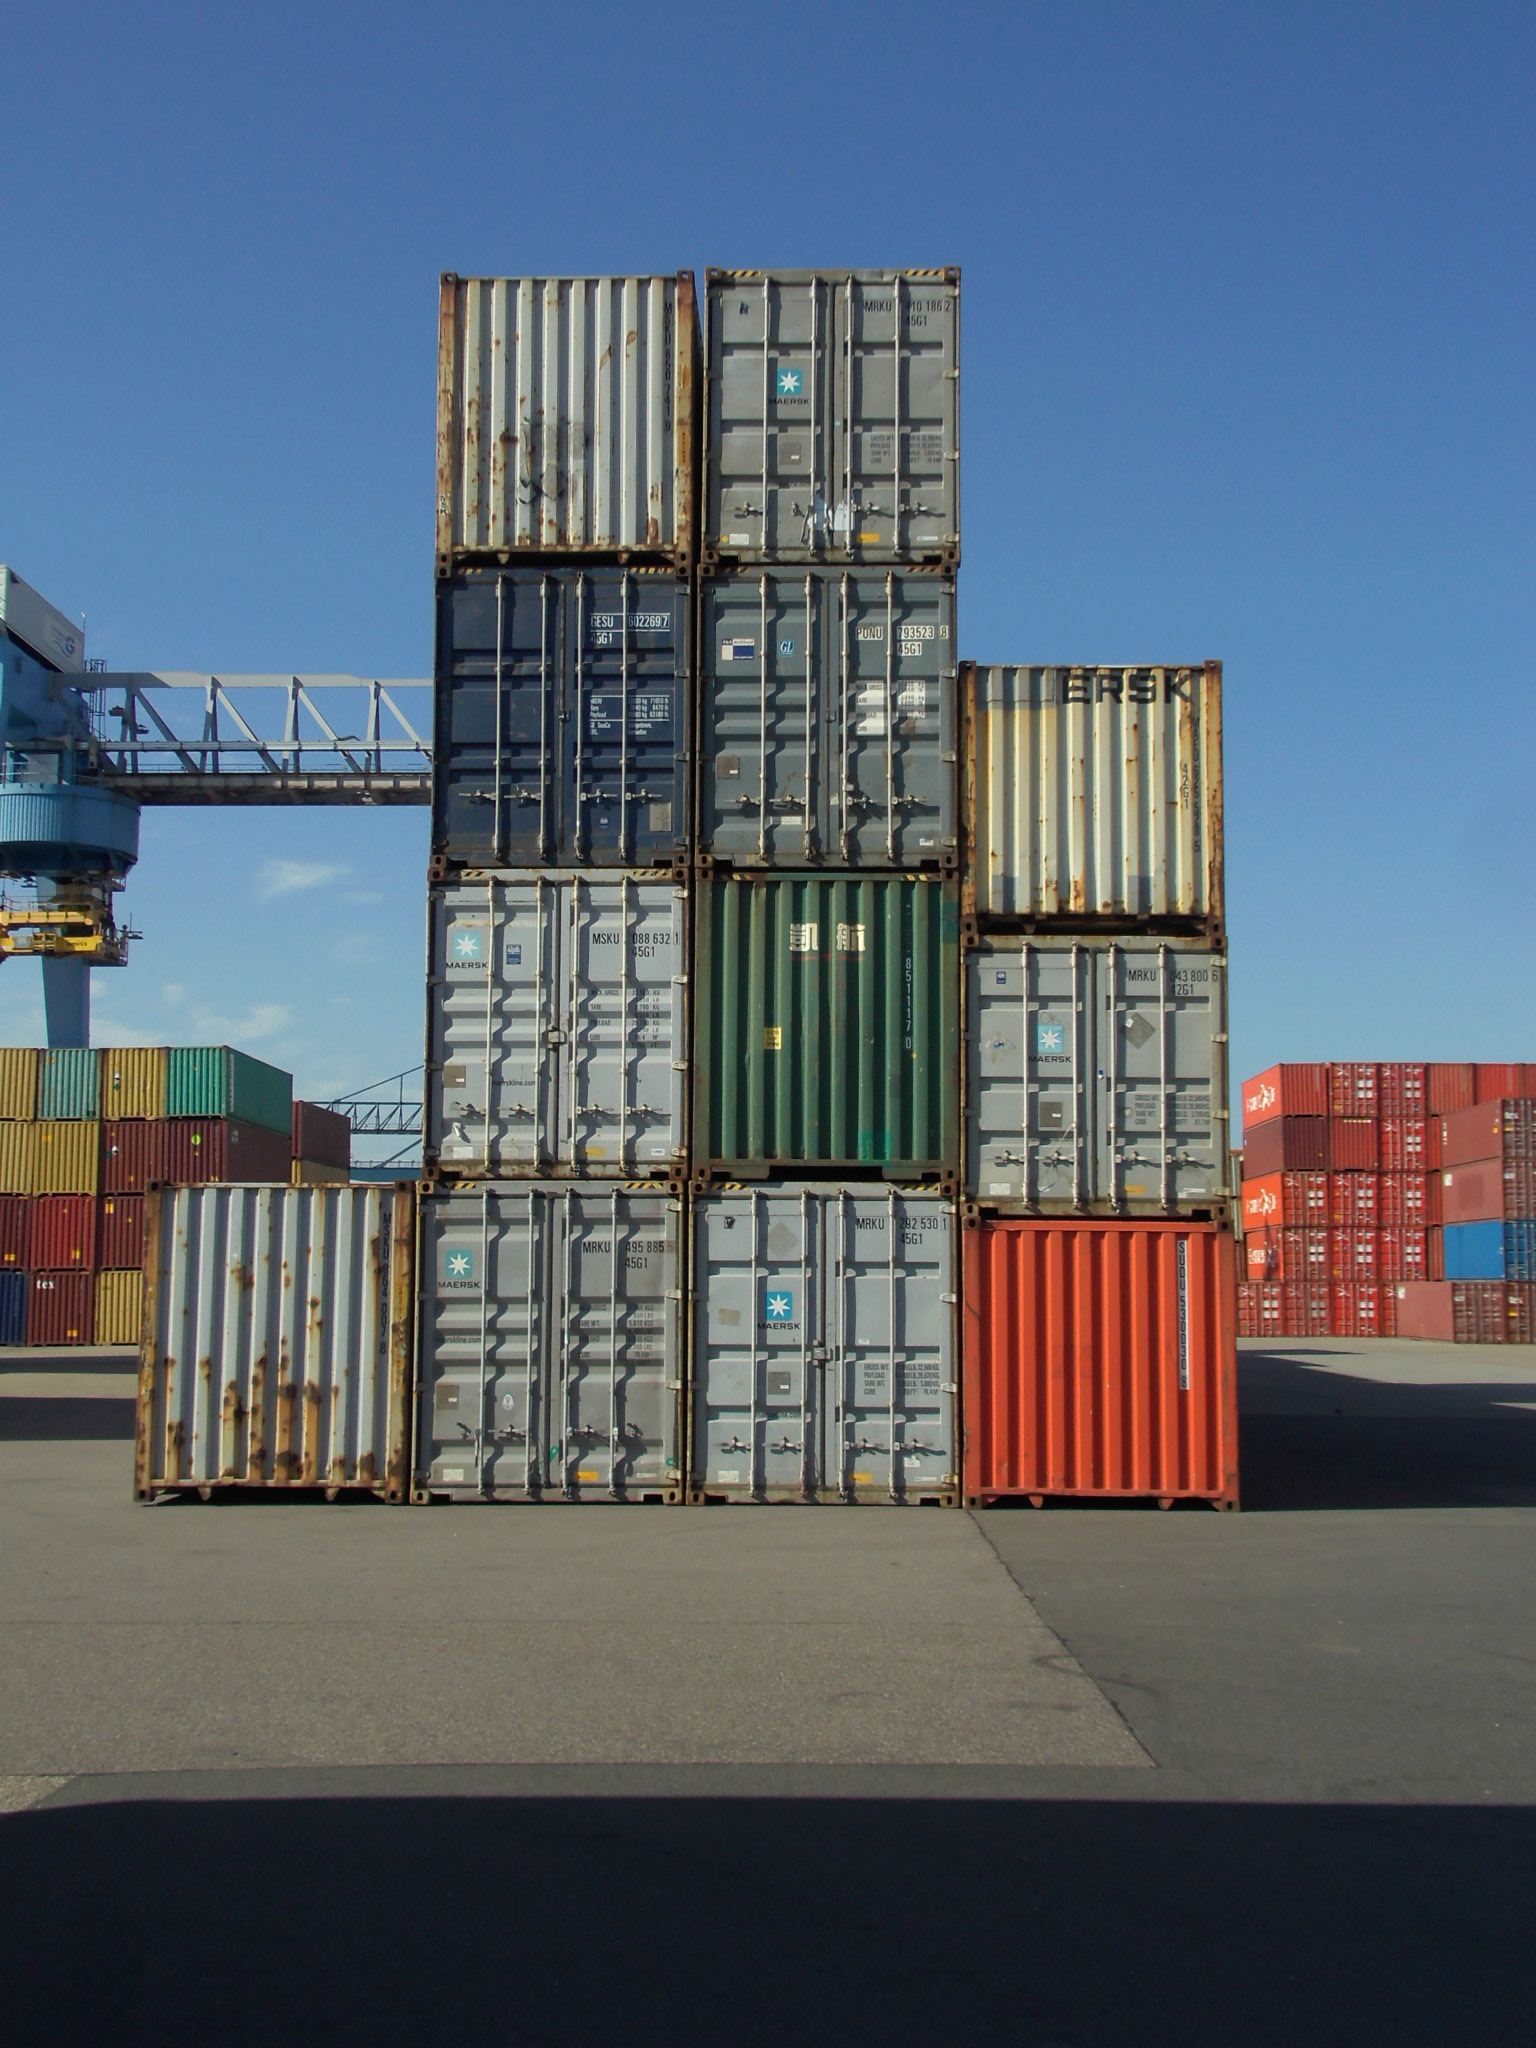container_door: (699, 1197, 945, 1505), (432, 1184, 678, 1492), (712, 279, 962, 561), (434, 572, 682, 856), (705, 571, 954, 855), (434, 876, 682, 1159), (970, 942, 1205, 1222)
container_no_door: (697, 872, 942, 1168), (436, 268, 687, 548), (155, 1197, 407, 1477), (975, 1216, 1226, 1495), (965, 666, 1217, 945)
